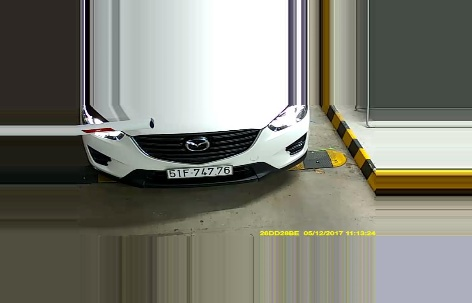plate: (163, 163, 233, 181)
